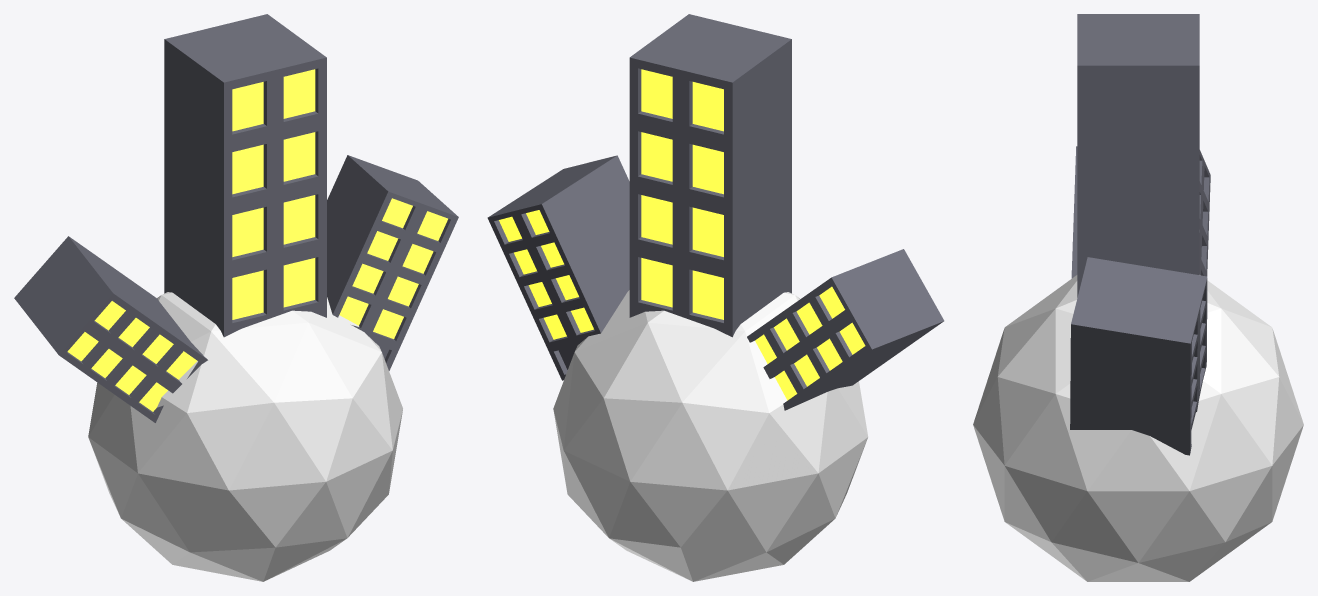
File: Planet1.glb
3 views of the same model, side by side, from view 1: azimuth 30°, elevation 25°; view 2: azimuth 150°, elevation 25°; view 3: azimuth 270°, elevation 25° (orthographic). The views are drawn at different scales.
Visible parts, largest first — view 1: Icosphere, Cube, Cube.001, Cube.002; view 2: Icosphere, Cube, Cube.001, Cube.002; view 3: Icosphere, Cube, Cube.001, Cube.002.
Part boxes in pixels (x1,y1,x2,y2): Icosphere: [88, 292, 402, 581]; Cube: [164, 14, 326, 337]; Cube.001: [327, 155, 458, 370]; Cube.002: [14, 236, 207, 422]; Icosphere: [553, 290, 868, 581]; Cube: [629, 14, 791, 337]; Cube.001: [487, 155, 629, 380]; Cube.002: [747, 249, 944, 410]; Icosphere: [973, 275, 1303, 581]; Cube: [1077, 14, 1199, 297]; Cube.001: [1070, 257, 1207, 455]; Cube.002: [1071, 146, 1210, 278].
Bounding box in the file's own units: 2.93 × 3.57 × 2.
